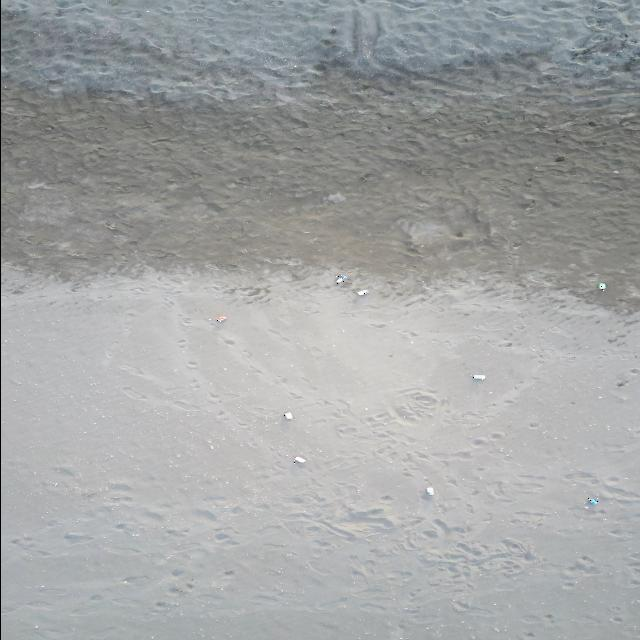Garbage: (326, 192, 346, 203), (586, 496, 597, 507), (335, 273, 347, 283), (215, 315, 226, 323), (356, 288, 367, 295), (472, 373, 483, 380), (283, 411, 292, 419), (597, 281, 606, 289), (293, 456, 304, 462), (426, 487, 432, 495), (555, 156, 564, 161)
